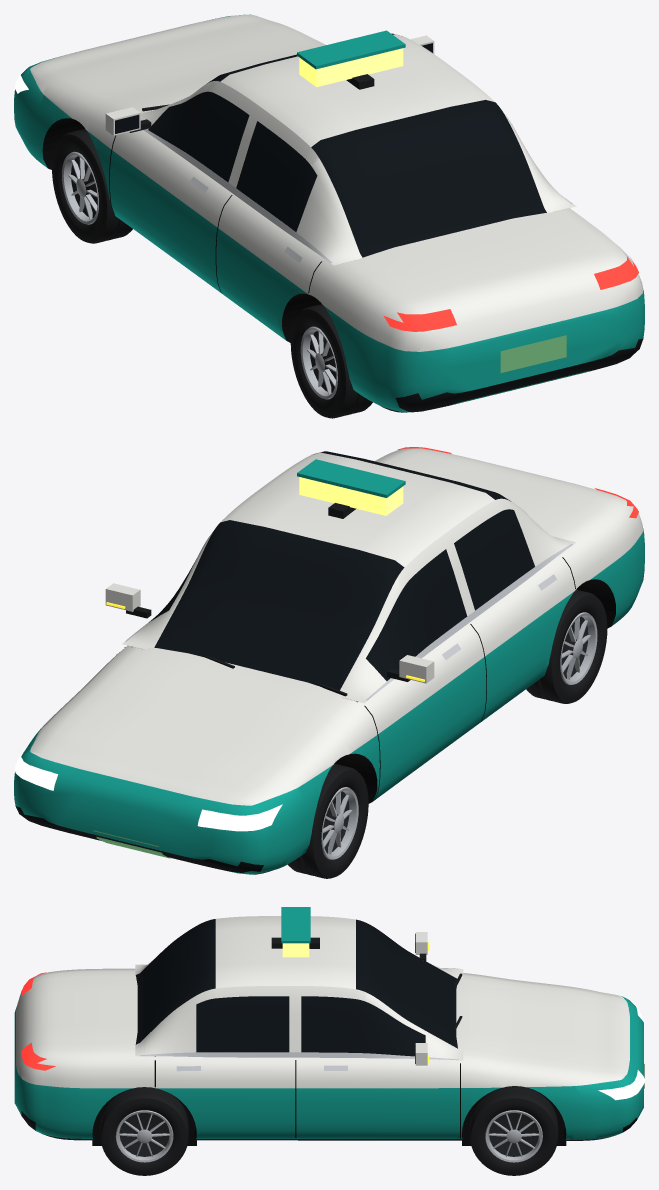
Rendered from gz_taxi.glb.
3 renders of one model, top to bottom at view 1: azimuth 30°, elevation 25°; view 2: azimuth 150°, elevation 25°; view 3: azimuth 270°, elevation 25°, orthographic. The views are drawn at different scales.
Parts seen in each view (by area): view 1: taxi | body, taxi front left | wheel, taxi rear left | wheel; view 2: taxi | body, taxi front left | wheel, taxi rear left | wheel; view 3: taxi | body, taxi front right | wheel, taxi rear right | wheel.
Boxes of the visible parts, bbox=[...] form: taxi | body: bbox=[14, 14, 644, 412]; taxi front left | wheel: bbox=[52, 128, 132, 243]; taxi rear left | wheel: bbox=[290, 304, 372, 418]; taxi | body: bbox=[14, 447, 644, 874]; taxi front left | wheel: bbox=[288, 763, 368, 878]; taxi rear left | wheel: bbox=[526, 589, 607, 703]; taxi | body: bbox=[14, 907, 644, 1145]; taxi front right | wheel: bbox=[470, 1086, 558, 1175]; taxi rear right | wheel: bbox=[100, 1087, 188, 1175].
Bounding box in the file's own units: 2.14 × 1.68 × 4.71.
